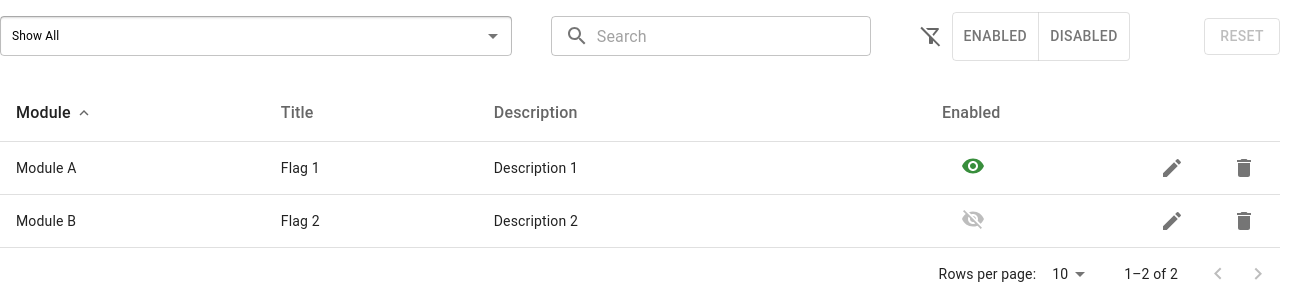
Test: FeatureFlagTable › renders filtered flags based on "enabled/disabled" toggle
Expected: the button "Reset" is disabled, left=1204, top=18, right=1280, bottom=54
# test toggle enabled
Click the button "Enabled".
click(995, 36)  # box left=952, top=12, right=1039, bottom=60
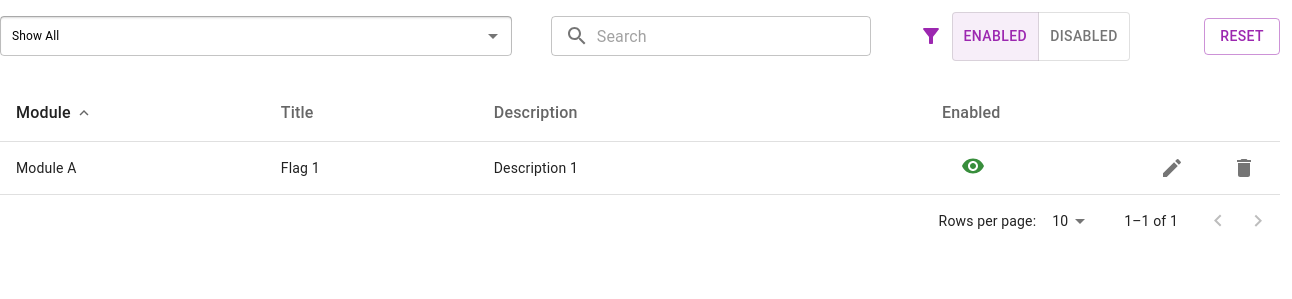
Expected: the text "Flag 1" is shown, left=265, top=142, right=478, bottom=195
Expected: the text "Flag 2" is gone
# test reset
Click the button "Reset".
click(1242, 36)  # box left=1204, top=18, right=1280, bottom=54
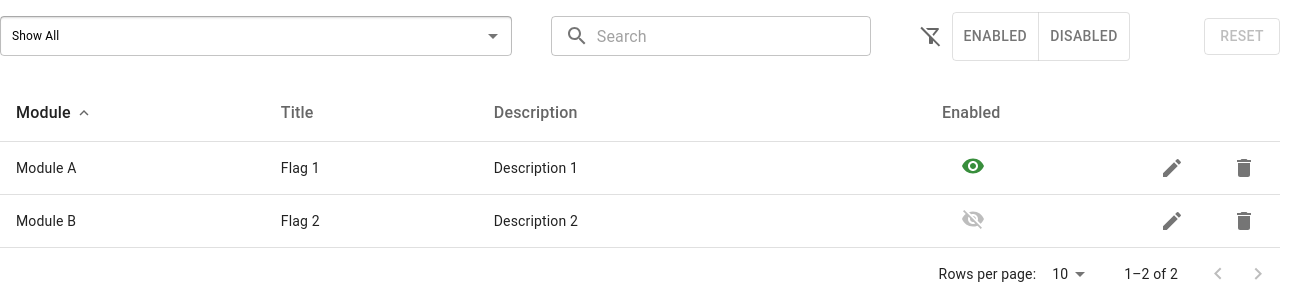
Expected: the text "Flag 1" is shown, left=265, top=142, right=478, bottom=195
Expected: the text "Flag 2" is shown, left=265, top=195, right=478, bottom=248
Click the button "Disabled".
click(1084, 36)  # box left=1038, top=12, right=1130, bottom=60
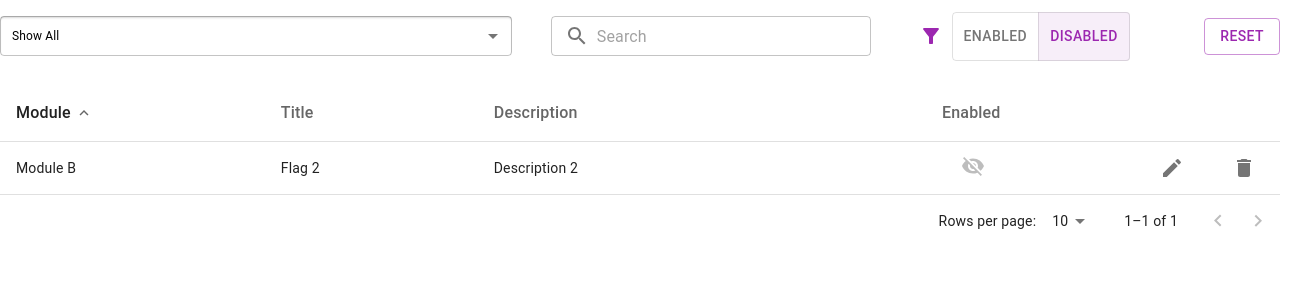
Expected: the text "Flag 1" is gone
Expected: the text "Flag 2" is shown, left=265, top=142, right=478, bottom=195
Click the checkbox named "Filter On".
click(930, 36)  # box left=918, top=24, right=942, bottom=48
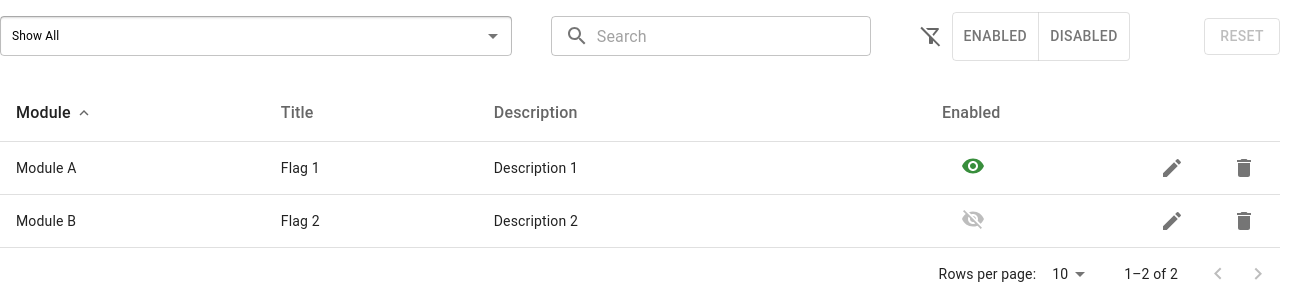
Expected: the text "Flag 2" is shown, left=265, top=195, right=478, bottom=248
Expected: the text "Flag 1" is shown, left=265, top=142, right=478, bottom=195
